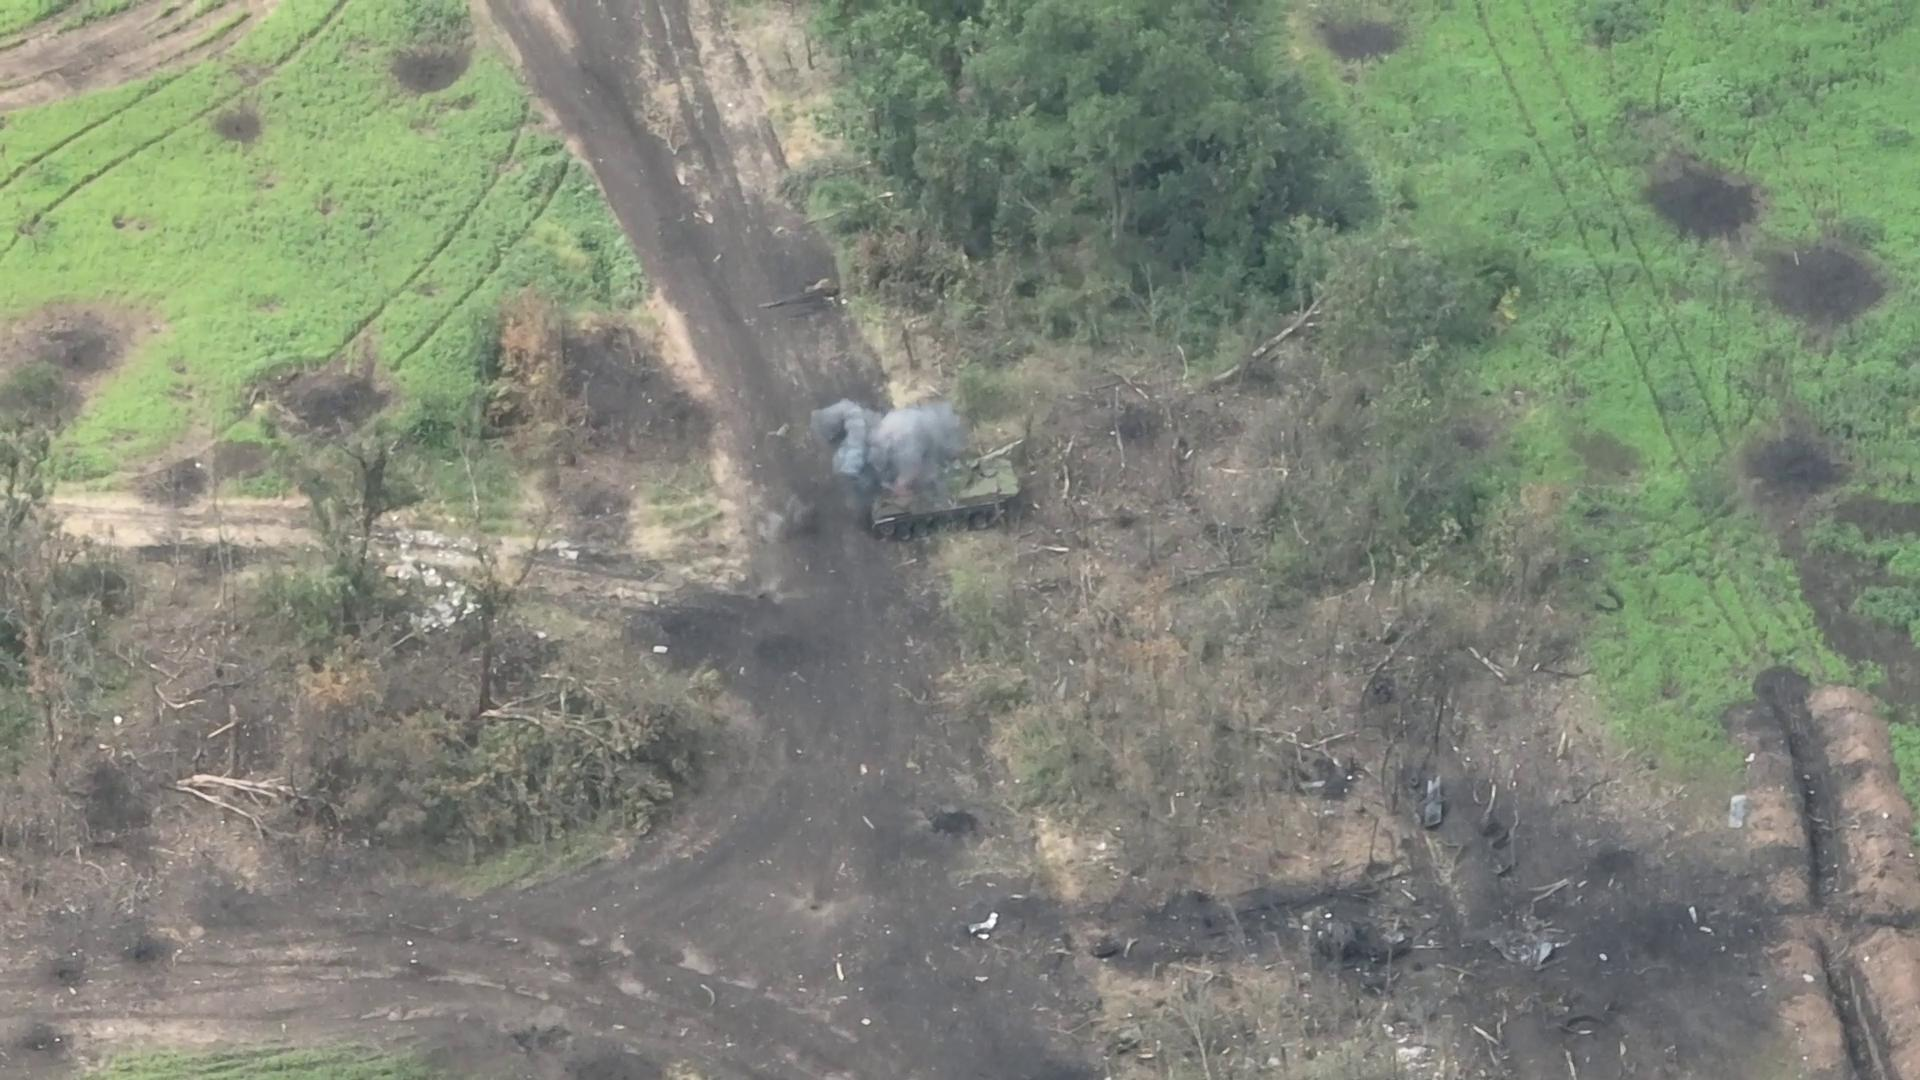tank: (864, 433, 1033, 546)
